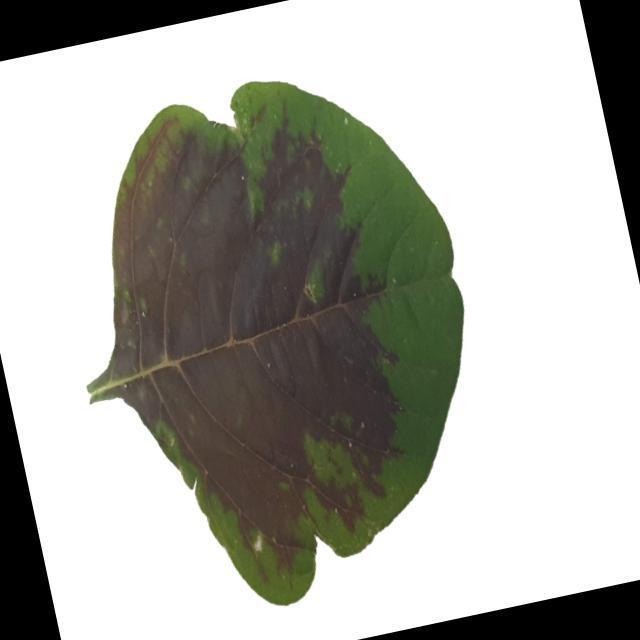Medicinal-Arive Dantu: (31, 45, 518, 635)
